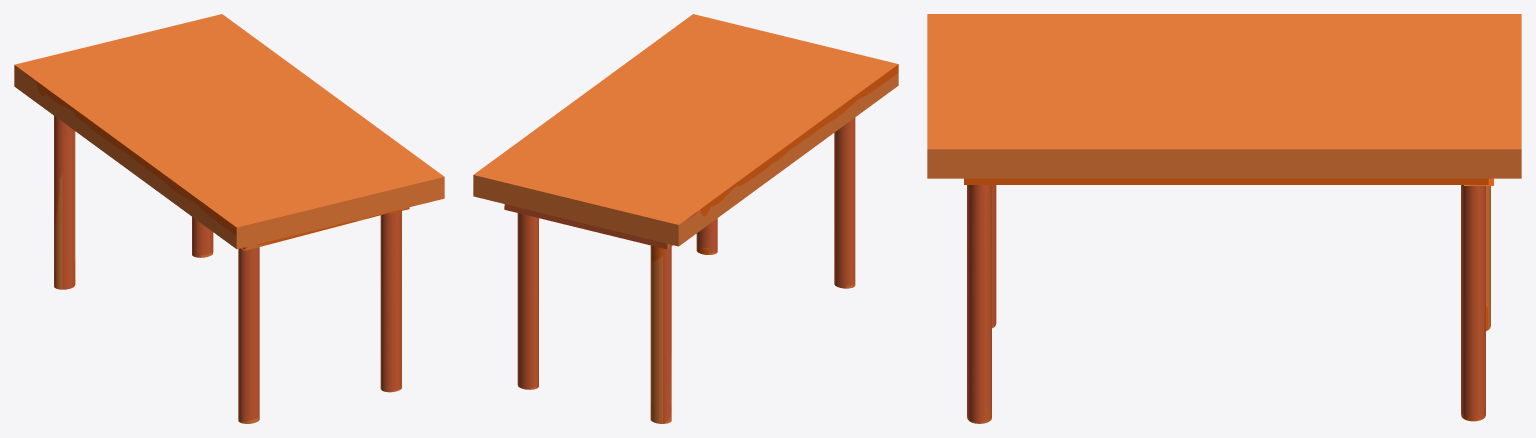
Rendered from DINING_TABLE.fbx.
The picture shows the model from 3 angles, left to right: view 1: azimuth 30°, elevation 25°; view 2: azimuth 150°, elevation 25°; view 3: azimuth 270°, elevation 25°; orthographic projection. The views are drawn at different scales.
Visible parts, largest first — view 1: table_dining_finished; view 2: table_dining_finished; view 3: table_dining_finished.
Part boxes in pixels (left/top/right/bottom): table_dining_finished: left=14, top=14, right=444, bottom=423; table_dining_finished: left=473, top=14, right=898, bottom=423; table_dining_finished: left=927, top=14, right=1521, bottom=423.
Size of the model in its own units: 159 by 158 by 294.
